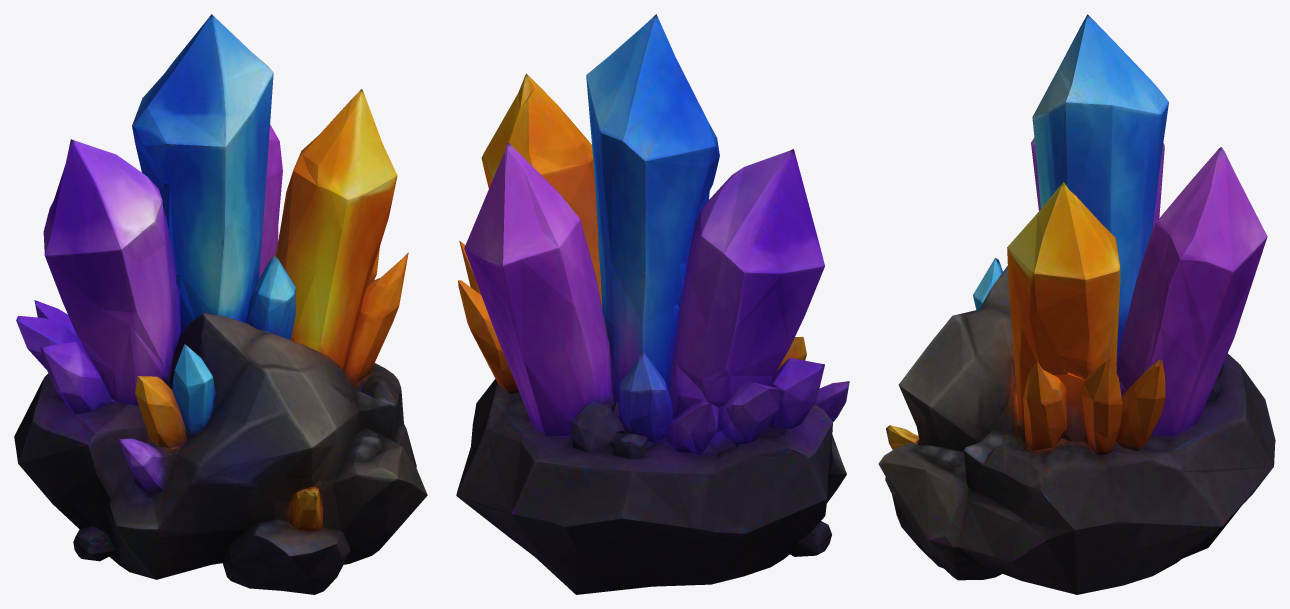
The model's file is d_mine_cristaux.glb.
3 renders of one model, left to right at view 1: azimuth 30°, elevation 25°; view 2: azimuth 150°, elevation 25°; view 3: azimuth 270°, elevation 25°, orthographic. The views are drawn at different scales.
Visible parts, largest first — view 1: geometry_0; view 2: geometry_0; view 3: geometry_0.
Boxes of the visible parts, box(x1,y1,x2,y2) form: geometry_0: box(14, 14, 427, 594); geometry_0: box(456, 14, 849, 594); geometry_0: box(878, 14, 1275, 594).
Size of the model in its own units: 0.7038 by 1 by 0.6693.
Materials: 1 (1 with a texture image).
